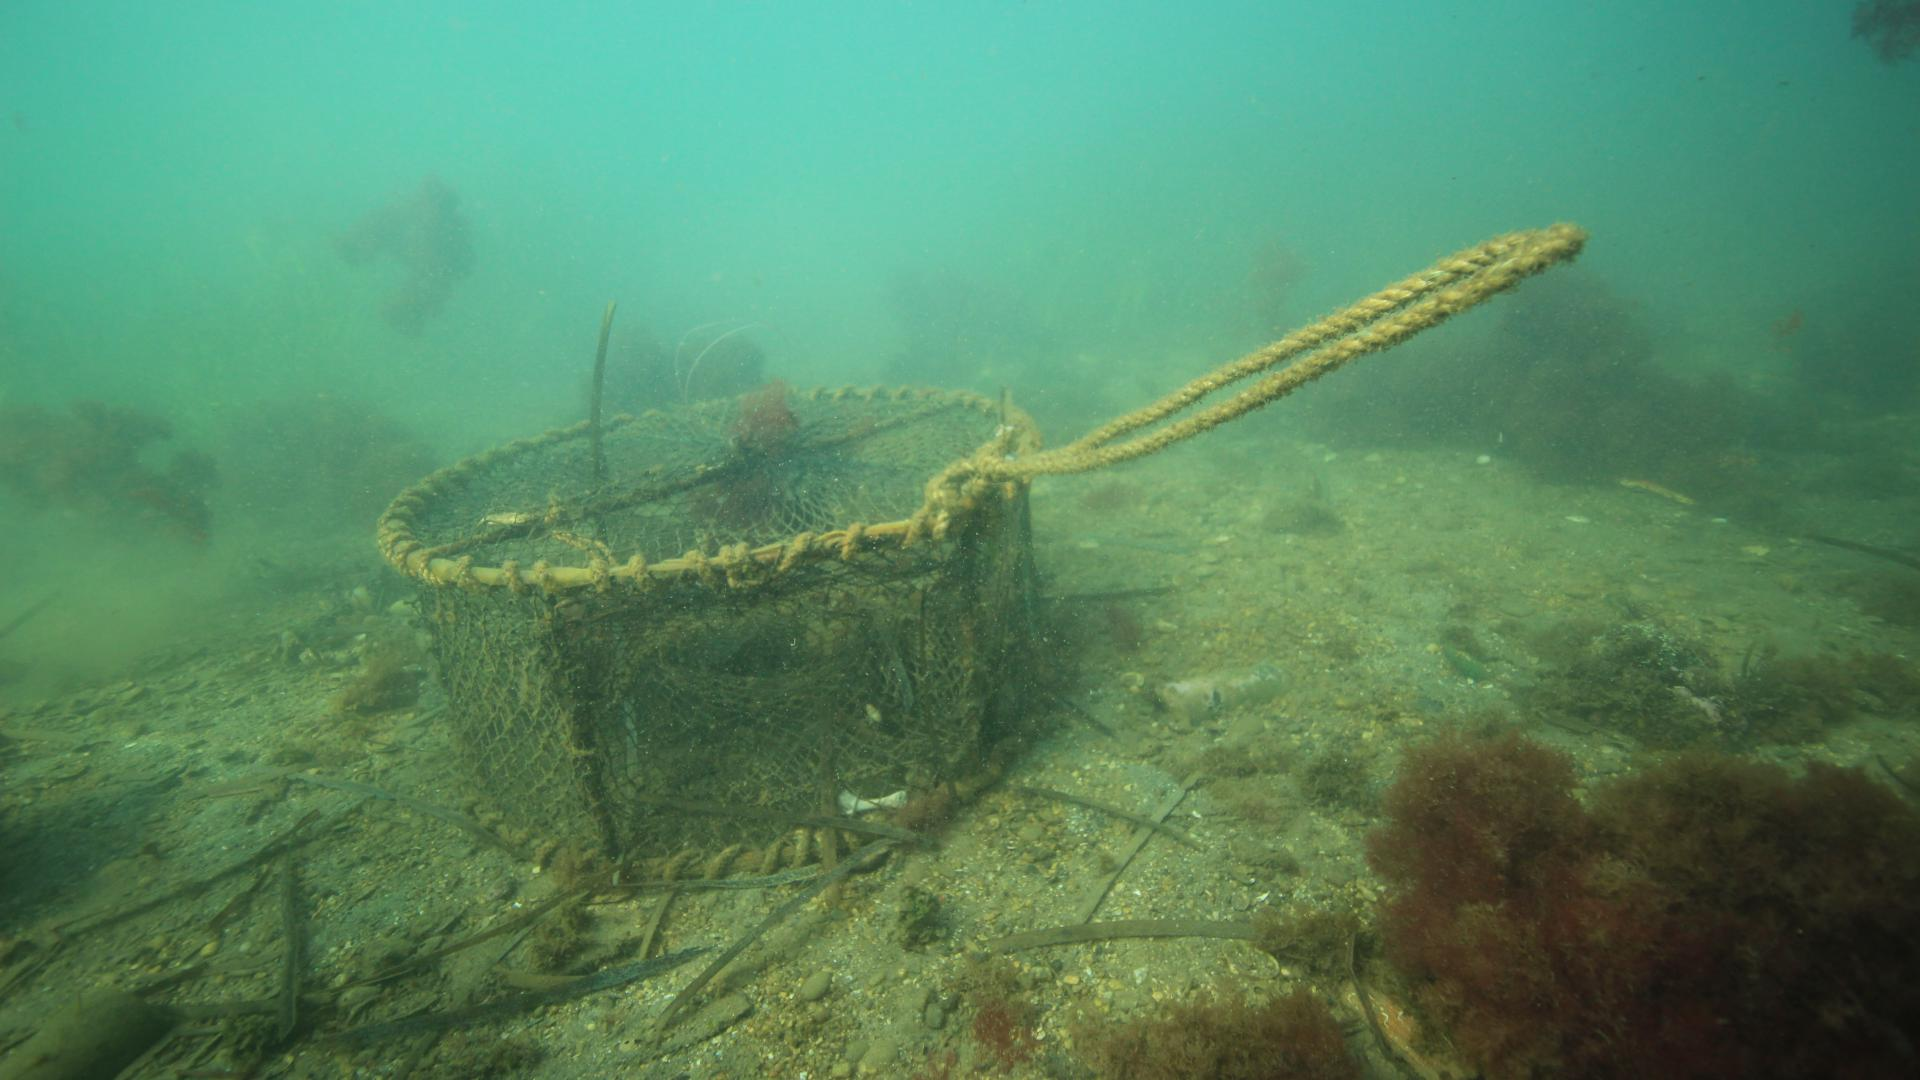circular fish trap: (371, 381, 1042, 889)
rope: (989, 218, 1589, 483)
